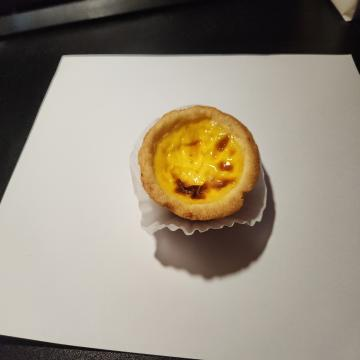EggTart: (137, 104, 260, 223)
